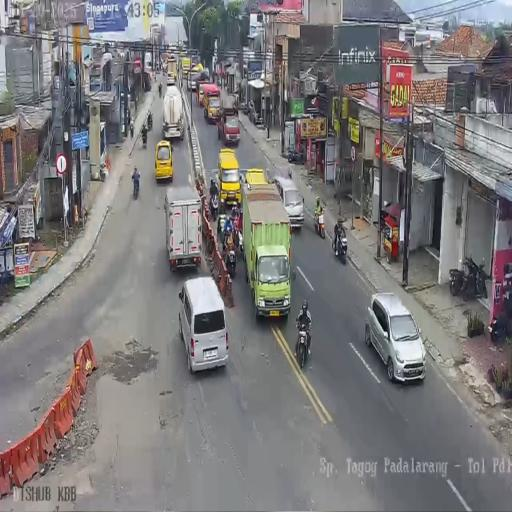3: (242, 175, 291, 316), (164, 186, 203, 273), (162, 86, 184, 142), (200, 83, 222, 123), (166, 55, 177, 83), (180, 56, 192, 78), (188, 69, 200, 91)
car: (366, 290, 426, 382), (176, 276, 226, 372), (217, 148, 241, 209), (155, 139, 173, 182), (220, 110, 240, 144), (200, 67, 210, 83)
truck: (450, 254, 483, 300), (490, 293, 512, 343), (295, 318, 312, 369), (223, 239, 237, 278), (333, 226, 347, 264), (232, 208, 242, 247), (314, 208, 325, 239), (208, 189, 218, 221), (287, 147, 304, 164), (132, 176, 140, 198), (142, 131, 147, 148), (158, 82, 162, 98), (154, 72, 156, 83)
